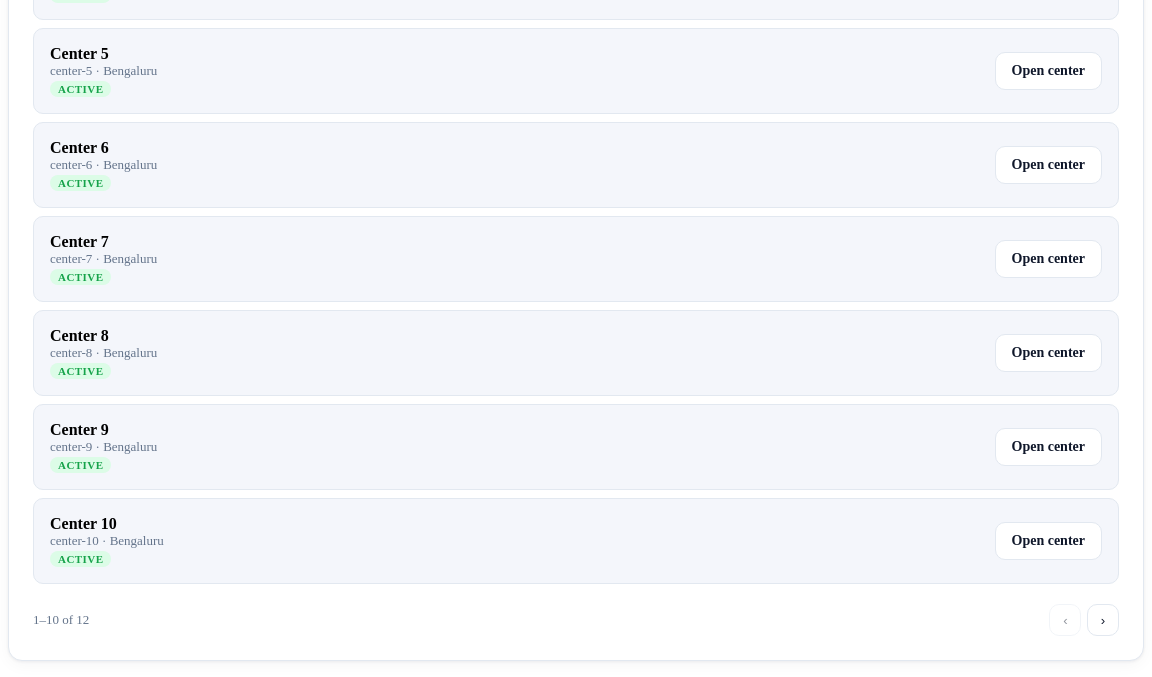
it: BrandDetailPage › regression_brand_detail_paginates_centers_and_domains
The image size is (1152, 677).
(page scrolled)
Expected: the text "Center 11" is not shown
Expected: the text "host-11.example.com — center" is not shown
What coordinates should you click on to do the following:
click the button named "Next page"
I would click on:
 (1103, 620)
Its box is left=1087, top=604, right=1119, bottom=636.
(page scrolled)
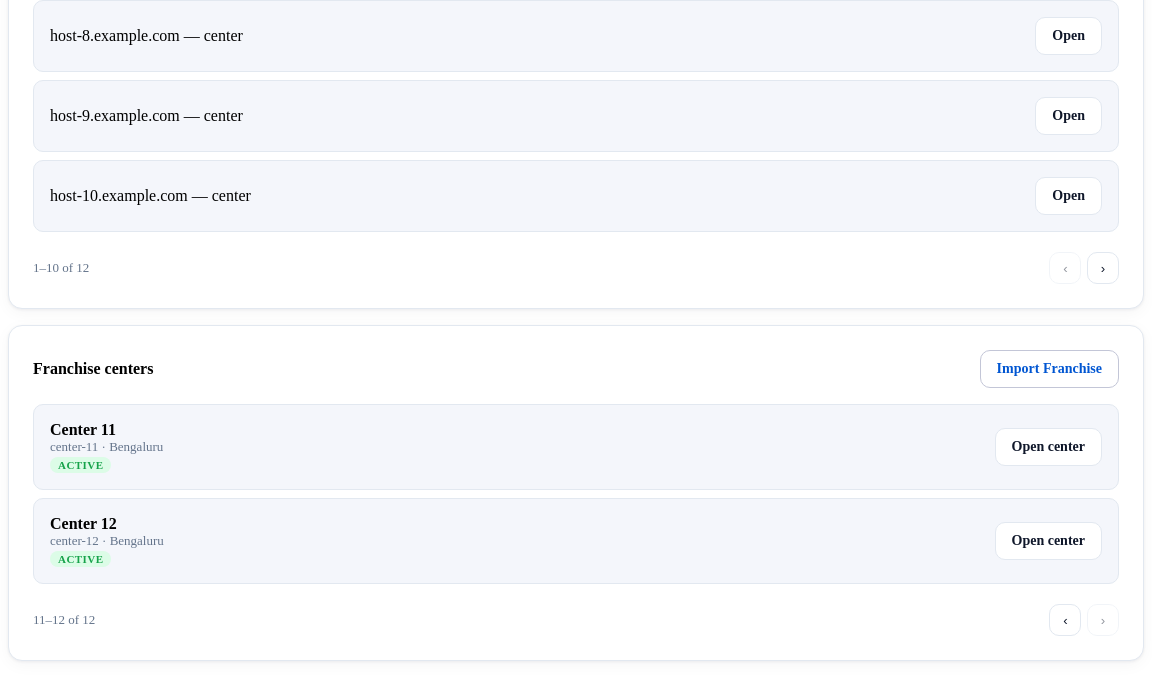
Expected: the text "1–10 of 12" is shown, left=33, top=260, right=89, bottom=276
Result: the text "Center 11" is shown at left=50, top=421, right=116, bottom=438
What coordinates should you click on to do the following:
click the button named "Next page"
I would click on:
 (1103, 268)
Its box is left=1087, top=252, right=1119, bottom=284.
(page scrolled)
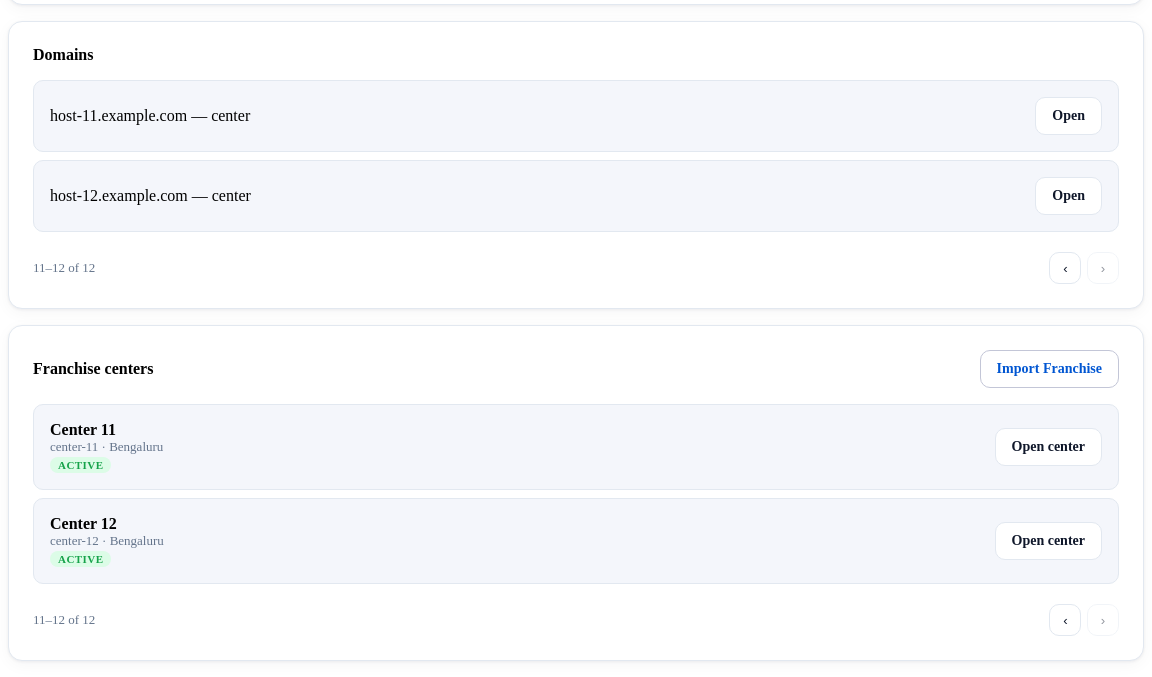
Result: the text "host-11.example.com — center" is shown at left=50, top=107, right=250, bottom=124
